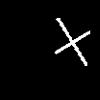single_crochet: (55, 18, 89, 65)
